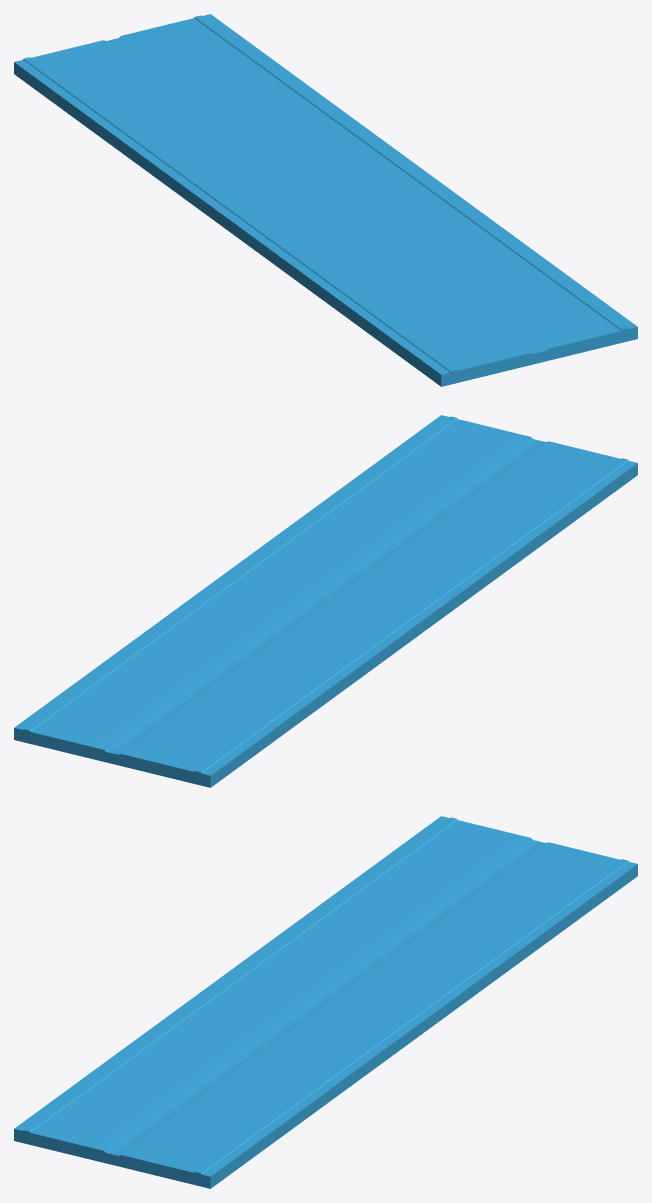
Rendered from ShipFloor16m.fbx.
3 views of the same model, one above another, from view 1: azimuth 30°, elevation 25°; view 2: azimuth 150°, elevation 25°; view 3: azimuth 330°, elevation 25° (orthographic).
Visible parts, largest first — view 1: Floor16m; view 2: Floor16m; view 3: Floor16m.
Part boxes in pixels (x1,y1,x2,y2): Floor16m: [14, 14, 637, 386]; Floor16m: [14, 415, 637, 787]; Floor16m: [14, 816, 637, 1188].
Size of the model in its own units: 4.25 by 0.2716 by 16.
